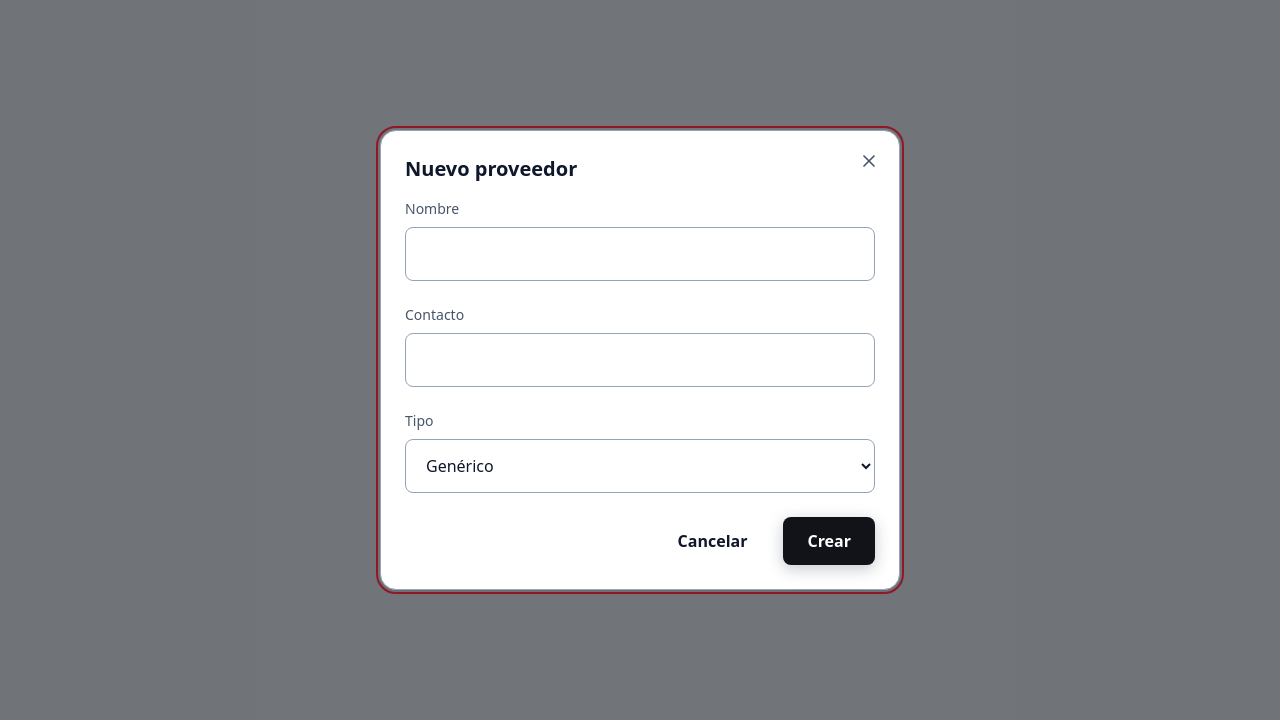
Test: ProveedorFormDialog: validaciones de campos obligatorios › asocia los errores con sus campos para lectores de pantalla
Step 1. Click the button "Crear" → point(829, 541), box 784,517 -> 875,565
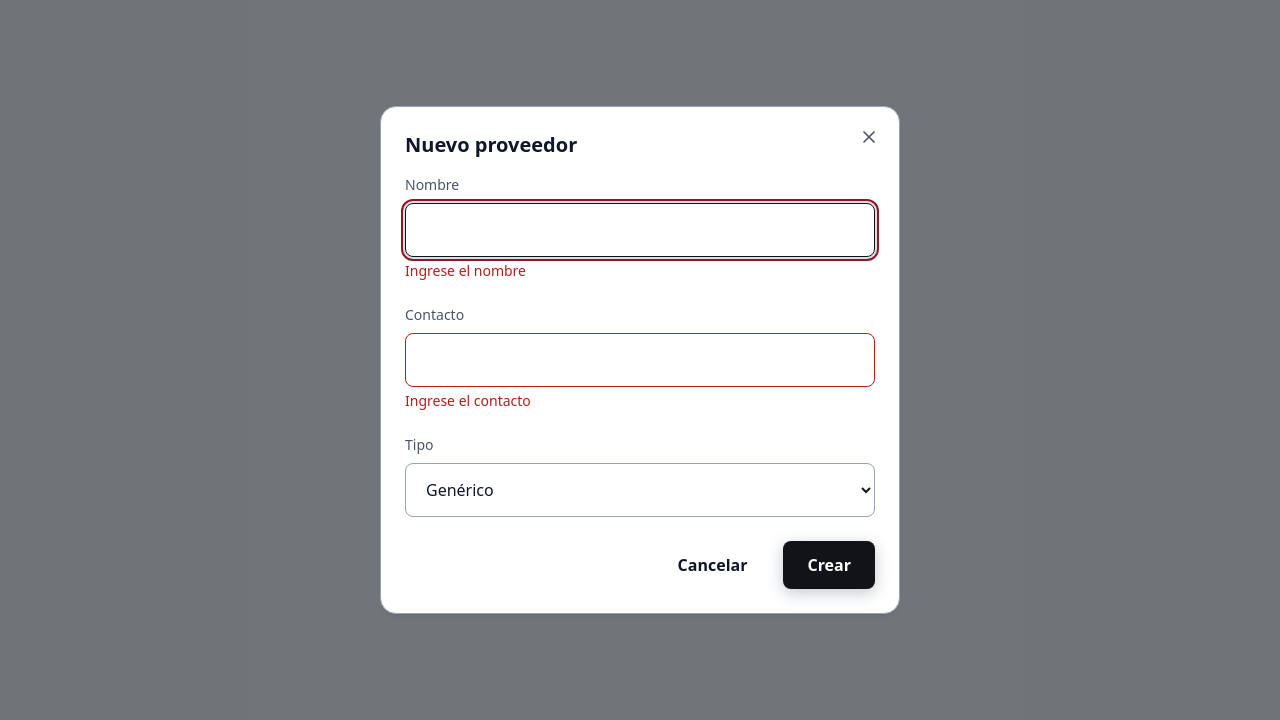
expect the text "Ingrese el nombre" is shown: met, box 405,261 -> 526,280
